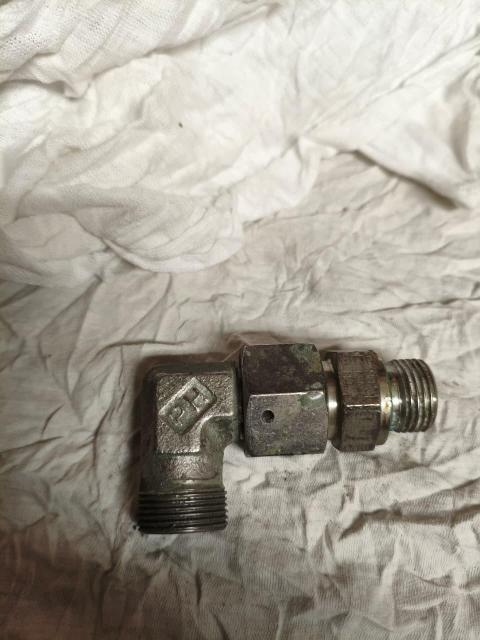Metal: (142, 343, 438, 533)
